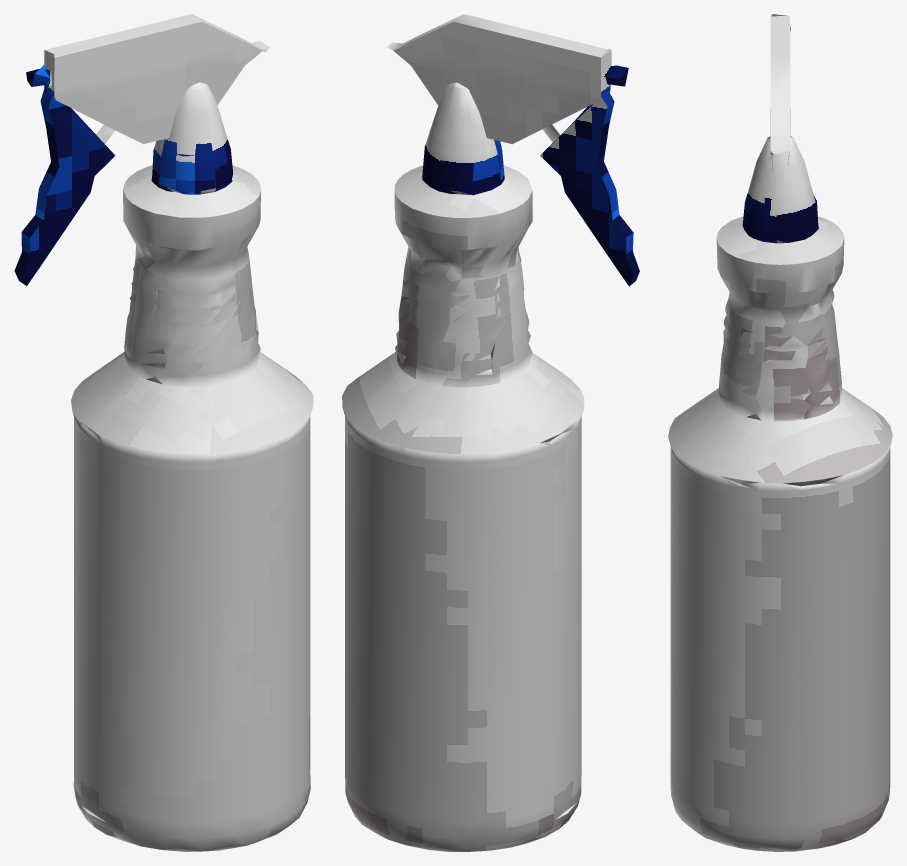
Rendered from spray_bottle.glb.
3 renders of one model, left to right at view 1: azimuth 30°, elevation 25°; view 2: azimuth 150°, elevation 25°; view 3: azimuth 270°, elevation 25°, orthographic. The views are drawn at different scales.
Visible parts, largest first — view 1: mesh; view 2: mesh; view 3: mesh.
Part boxes in pixels (x1,y1,x2,y2): mesh: [14, 14, 313, 851]; mesh: [342, 14, 639, 851]; mesh: [668, 14, 892, 851].
Size of the model in its own units: 0.0707 by 0.192 by 0.0533.
Materials: 1 (1 with a texture image).
